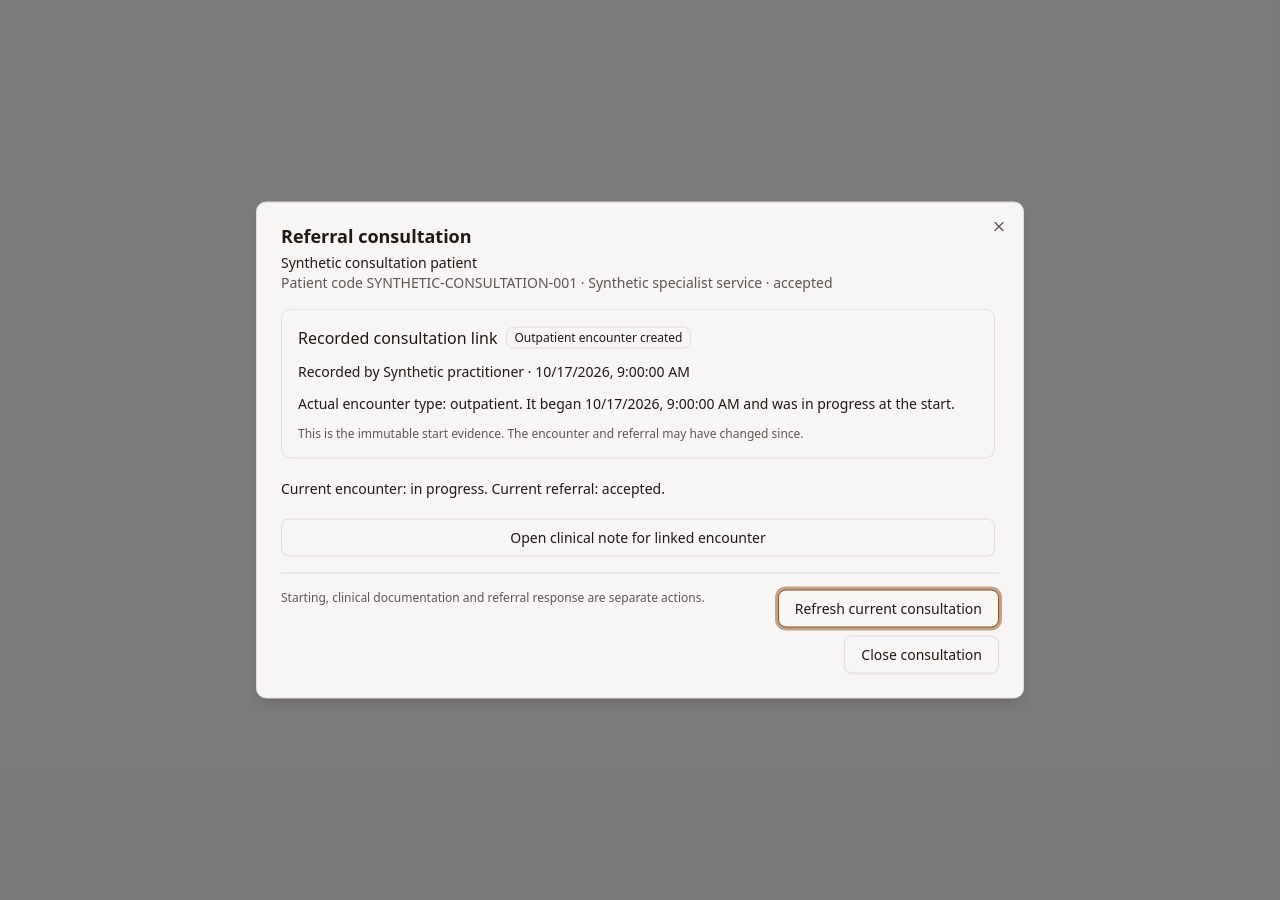
unmounts protected note copies after a fresh terminal linked encounter and refuses another note mount
Click the button "Open clinical note for linked encounter".
click(638, 538)  # box [281,518,995,556]
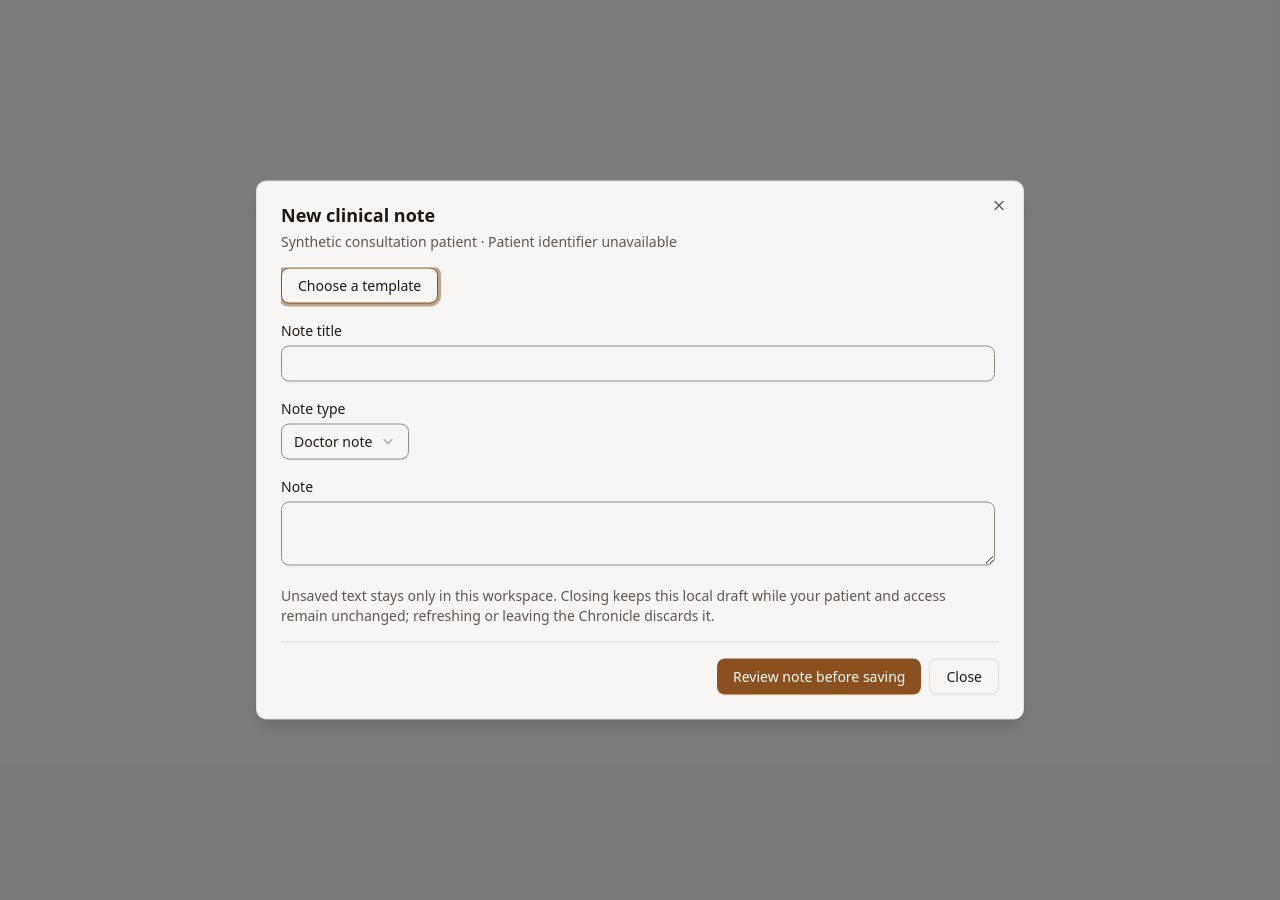
Type "Synthetic discarded terminal note" into the field labelled "Note title".
click(638, 364); type("Synthetic discarded terminal note")  # box [281,346,995,382]
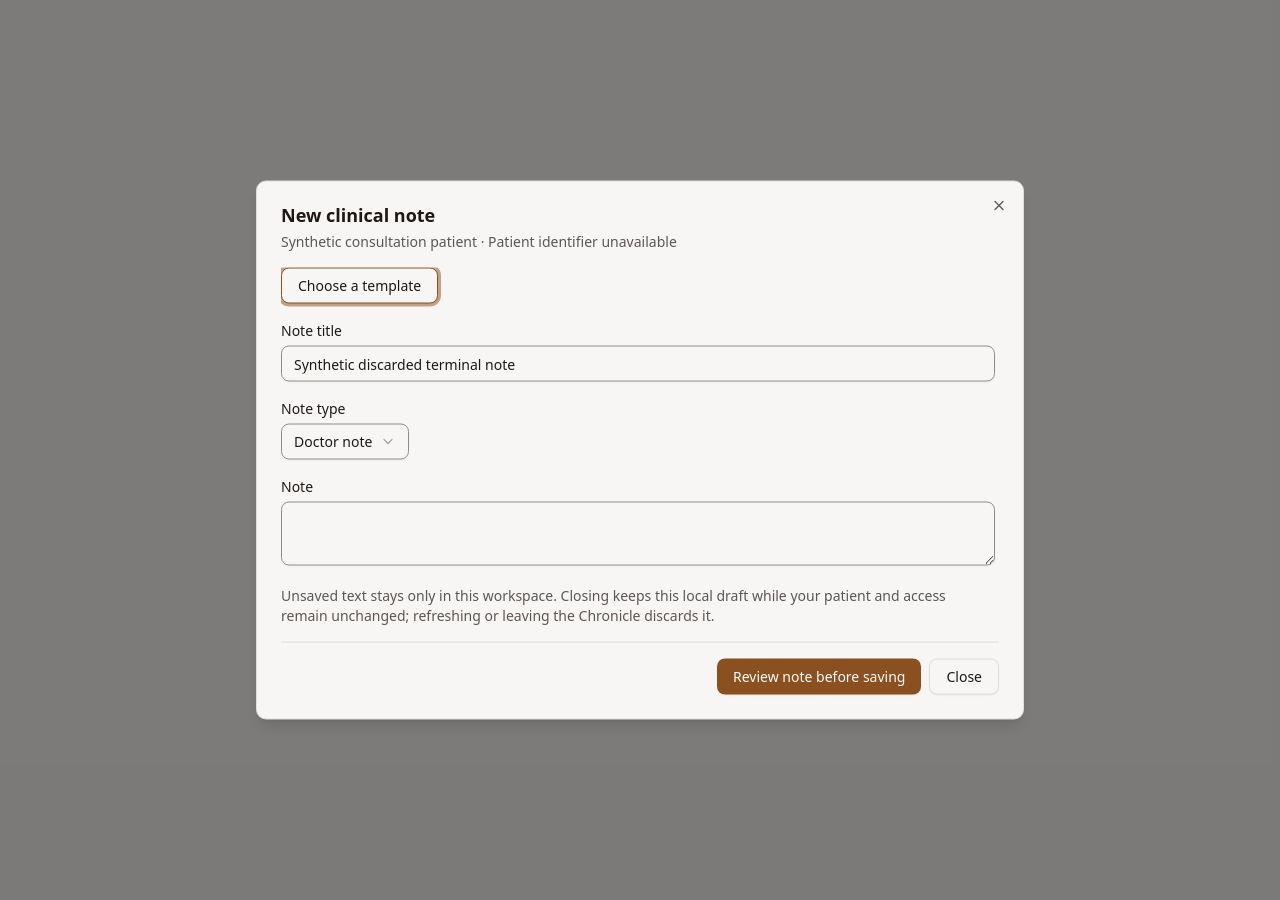
Press Escape
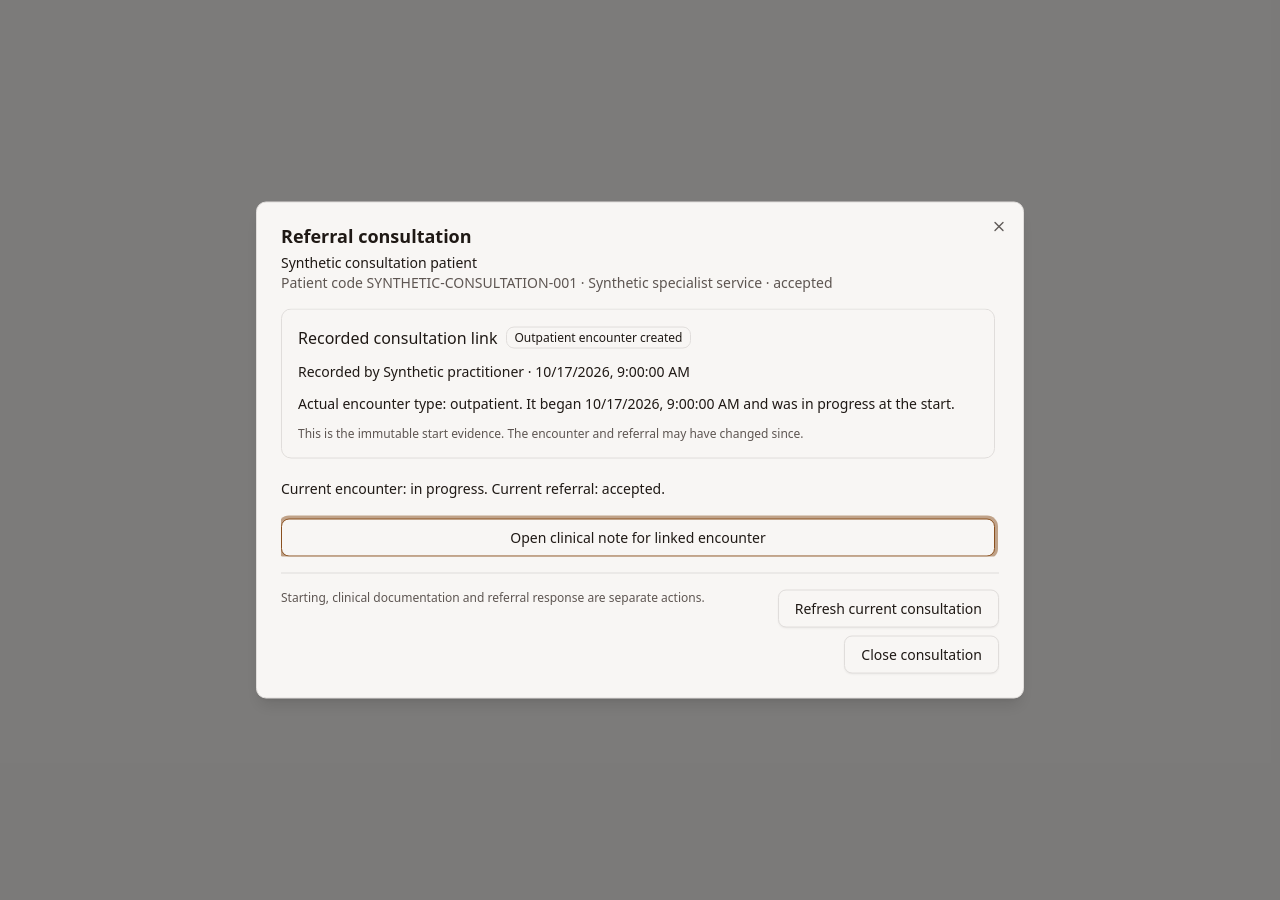
Click the button "Refresh current consultation".
click(888, 608)  # box [778,590,999,628]
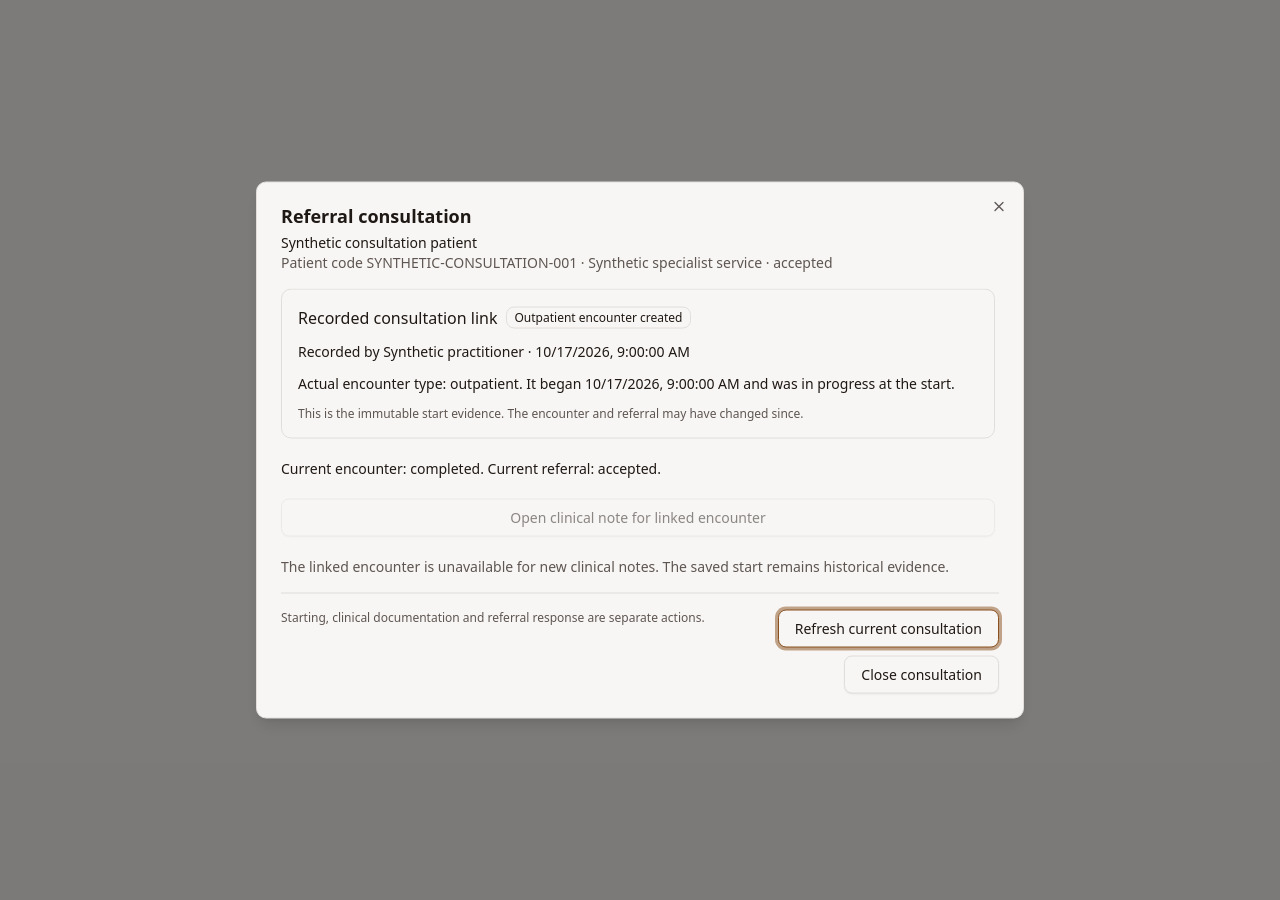
expect the field showing "Synthetic discarded terminal note" is not shown: met
expect the button "Open clinical note for linked encounter" is disabled: met, box [281,498,995,536]
